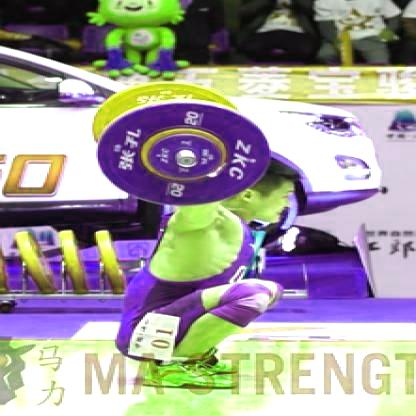Barbell: (177, 154, 202, 170)
